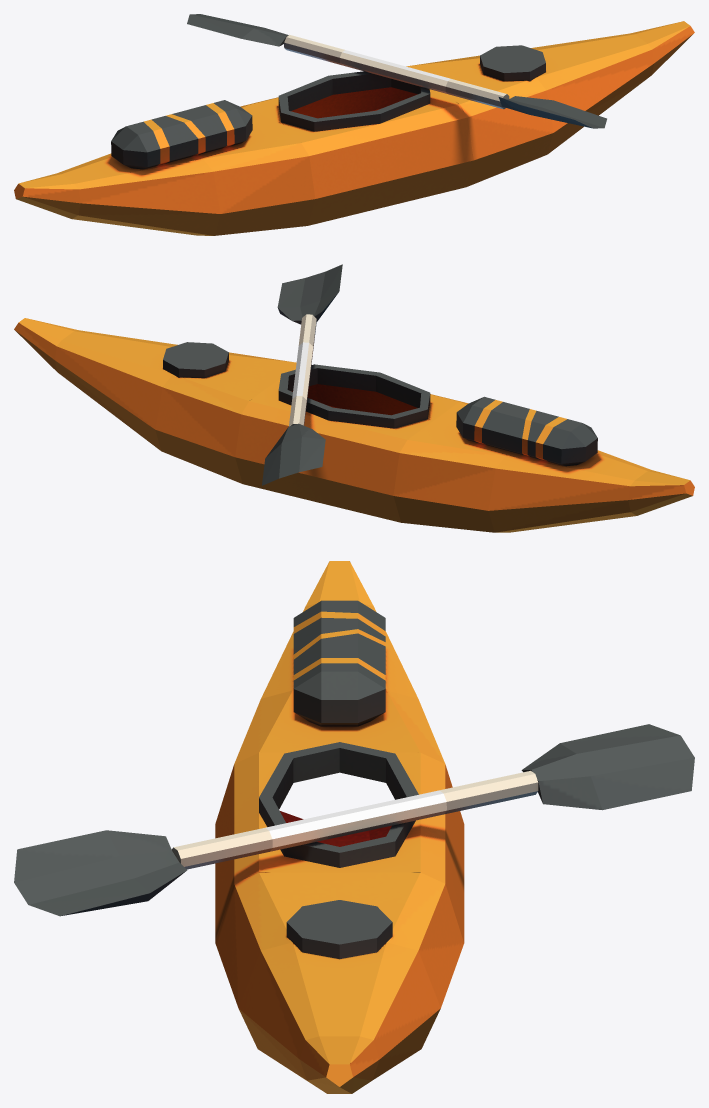
File: 708bbbc2-fa60-4062-adb4-39bcfbd67462.glb
The picture shows the model from 3 angles, top to bottom: view 1: azimuth 30°, elevation 25°; view 2: azimuth 150°, elevation 25°; view 3: azimuth 270°, elevation 25°; orthographic projection. The views are drawn at different scales.
Parts seen in each view (by area): view 1: PUSHILIN_Kayak_Circle.003; view 2: PUSHILIN_Kayak_Circle.003; view 3: PUSHILIN_Kayak_Circle.003.
Boxes of the visible parts, x1,y1,x2,y2 form: PUSHILIN_Kayak_Circle.003: (14,14,694,235); PUSHILIN_Kayak_Circle.003: (14,264,694,532); PUSHILIN_Kayak_Circle.003: (14,561,694,1093).
Bounding box in the file's own units: 3.94 × 0.7054 × 2.22.
1 material, 1 textured.
